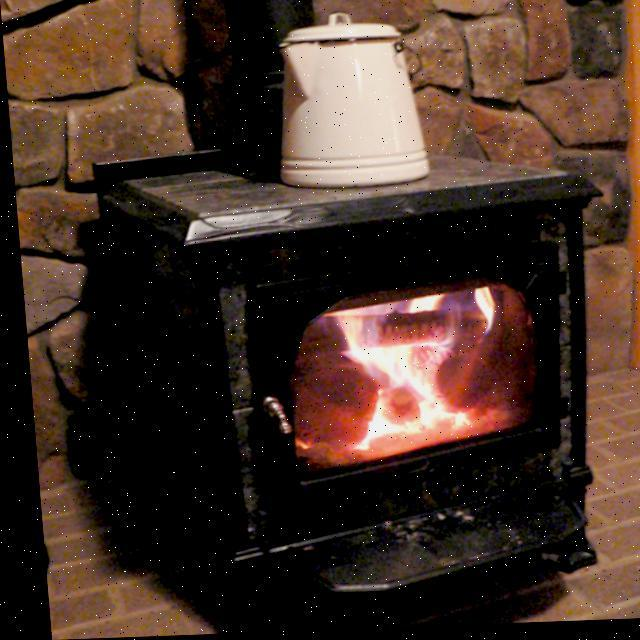Fire: (292, 290, 528, 456)
